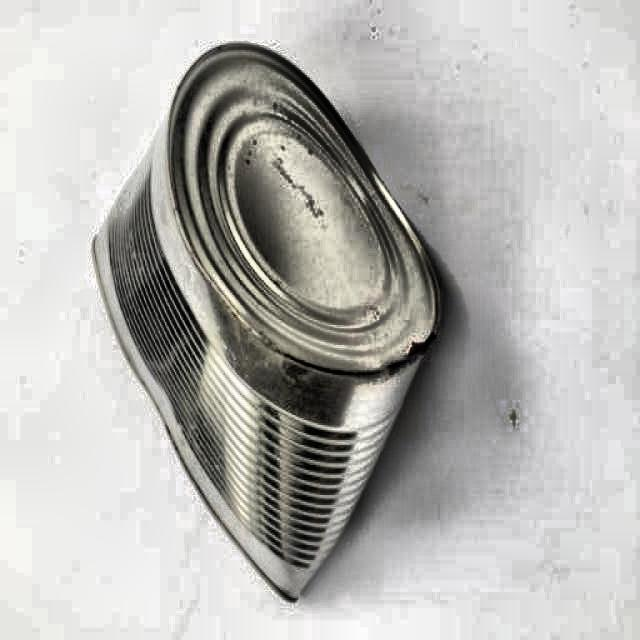metal: (92, 44, 440, 604)
